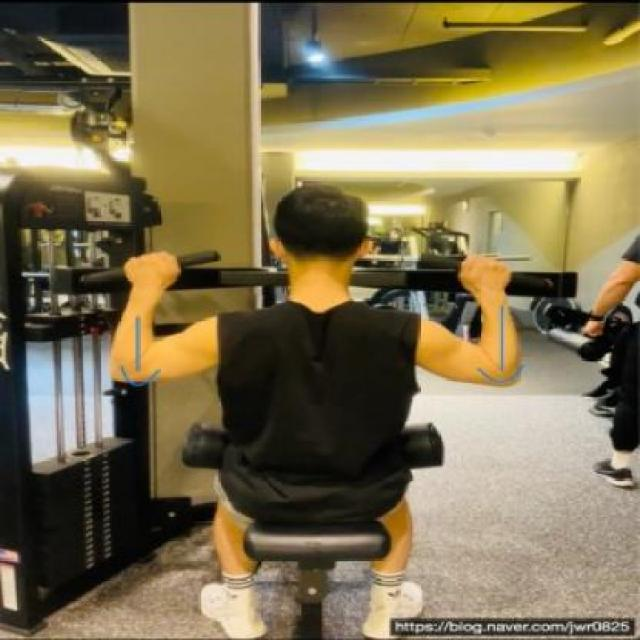Lat Pull Down: (57, 95, 575, 640)
